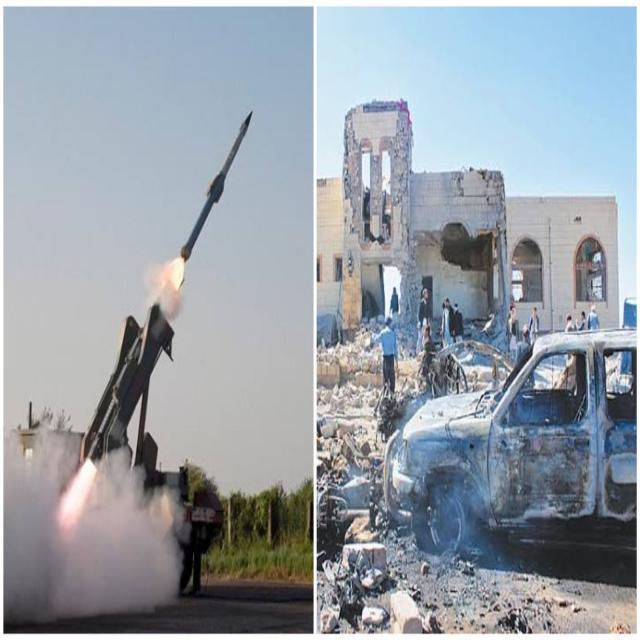Missile: (177, 103, 260, 265)
